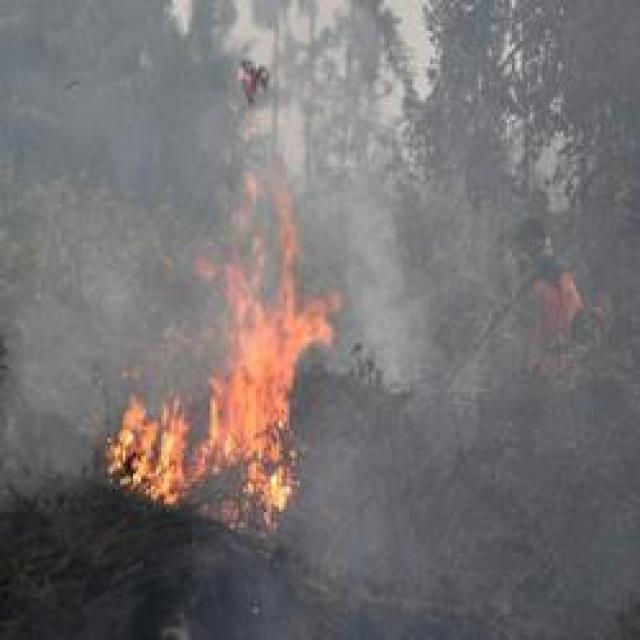fire: (104, 134, 336, 524)
